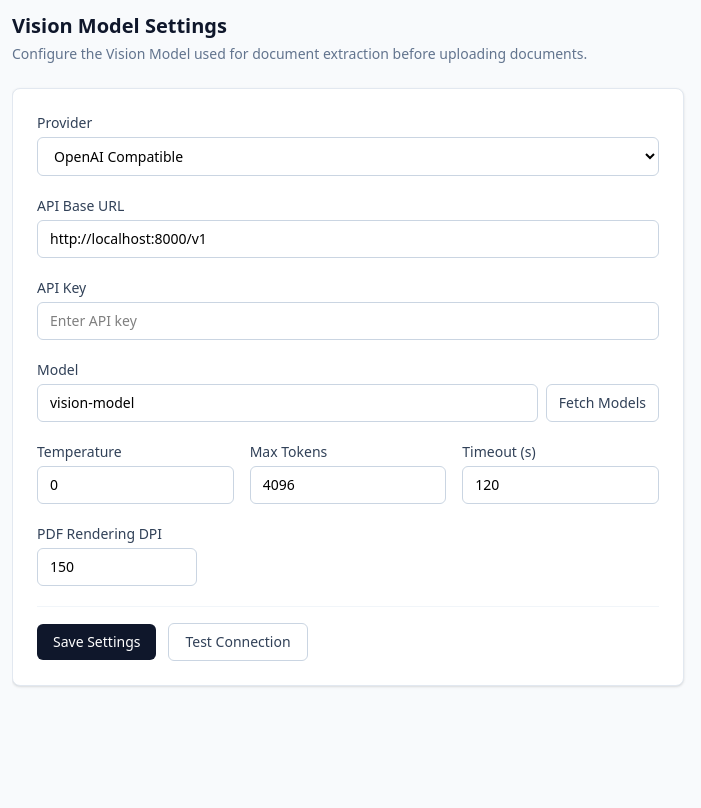
Scenario: SettingsPage › shows a success message with response time after a successful test connection
Expected: the field showing "http://localhost:8000/v1" below "API Base URL" is shown, 37,220 -> 659,258
Click the button "Test Connection" at (238, 642), box 168,623 -> 308,661
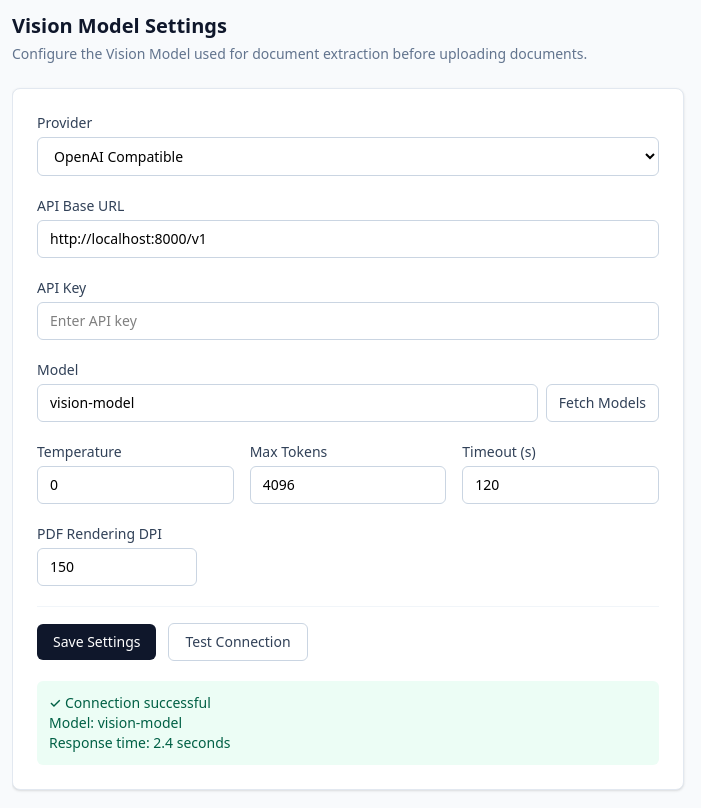
Now the text "✓ Connection successful" is shown, box 49,693 -> 211,712
Now the text "Response time: 2.4 seconds" is shown, box 49,733 -> 230,752
